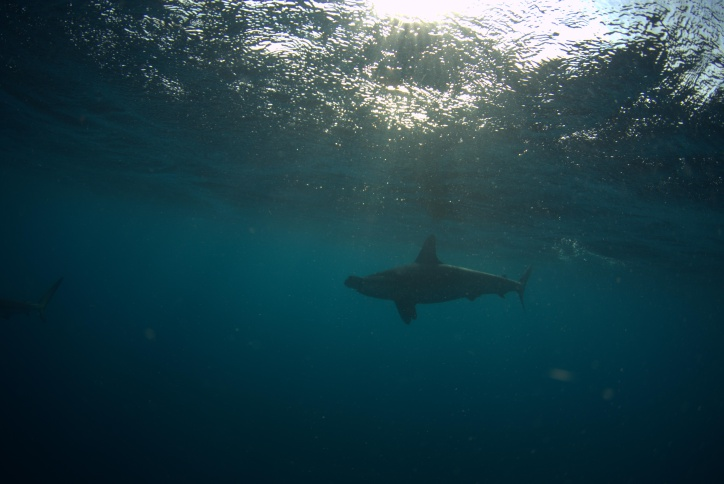Hammer: (338, 233, 546, 348)
